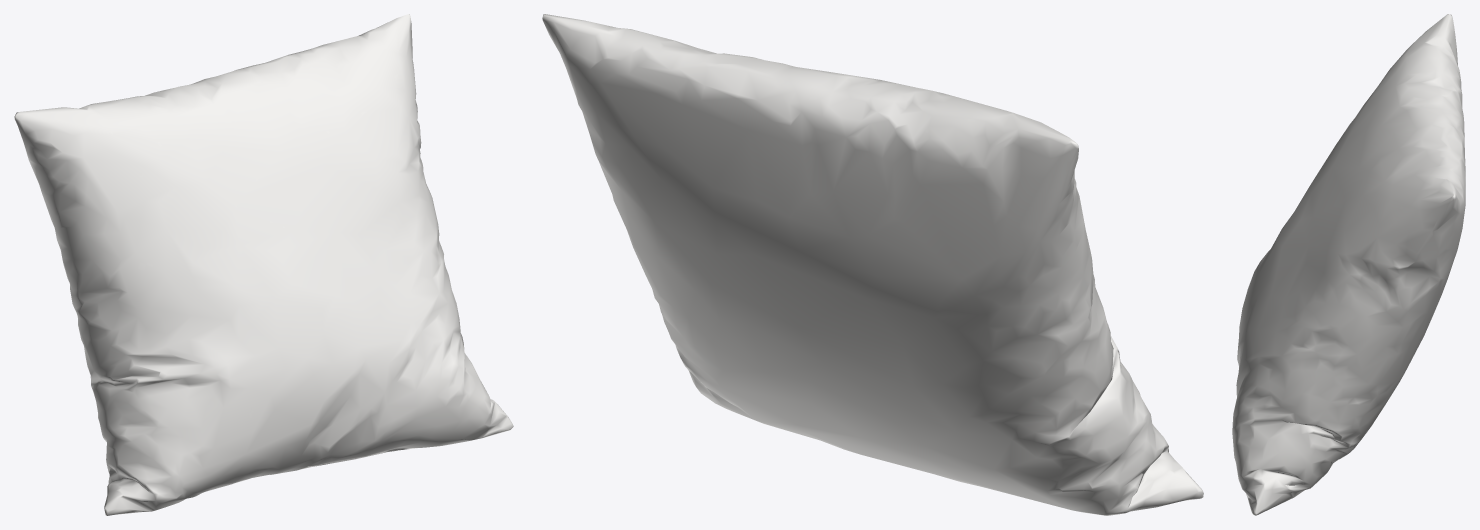
Rendered from fjadrar_poduszka_wewnetrzna_80262187.glb.
The picture shows the model from 3 angles, left to right: view 1: azimuth 30°, elevation 25°; view 2: azimuth 150°, elevation 25°; view 3: azimuth 270°, elevation 25°; orthographic projection. The views are drawn at different scales.
Parts seen in each view (by area): view 1: fjadrar_poduszka_wewnetrzna_80262187; view 2: fjadrar_poduszka_wewnetrzna_80262187; view 3: fjadrar_poduszka_wewnetrzna_80262187.
Part boxes in pixels (x1,y1,x2,y2): fjadrar_poduszka_wewnetrzna_80262187: (14,14,513,515); fjadrar_poduszka_wewnetrzna_80262187: (542,14,1203,515); fjadrar_poduszka_wewnetrzna_80262187: (1232,14,1465,515).
Size of the model in its own units: 0.4955 by 0.4004 by 0.2634.
Materials: 1 (1 with a texture image).
